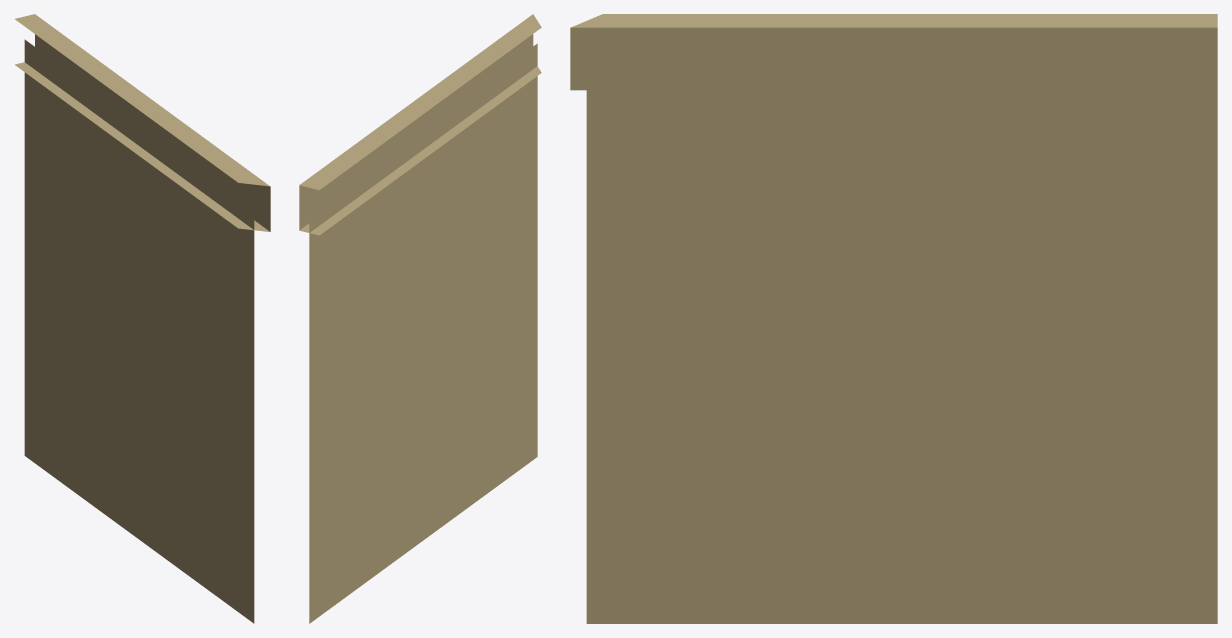
Rendered from Roof_2_2.fbx.
3 renders of one model, left to right at view 1: azimuth 30°, elevation 25°; view 2: azimuth 150°, elevation 25°; view 3: azimuth 270°, elevation 25°, orthographic. The views are drawn at different scales.
Parts seen in each view (by area): view 1: Roof_2_2; view 2: Roof_2_2; view 3: Roof_2_2.
Part boxes in pixels (bbox=[...]): Roof_2_2: bbox=[15, 14, 270, 623]; Roof_2_2: bbox=[299, 14, 541, 623]; Roof_2_2: bbox=[570, 14, 1217, 623].
Size of the model in its own units: 0.2059 by 4.22 by 4.1.
